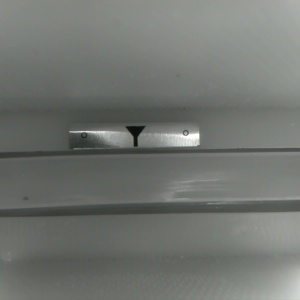finger: (125, 126, 145, 144)
